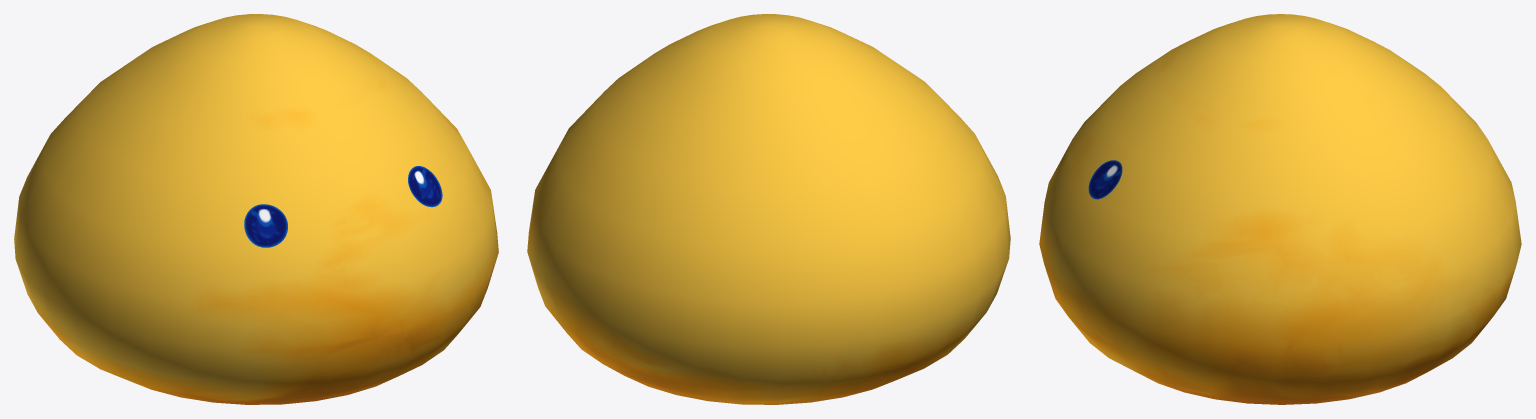
The model's file is slime_yellow.gltf.
The picture shows the model from 3 angles, left to right: view 1: azimuth 30°, elevation 25°; view 2: azimuth 150°, elevation 25°; view 3: azimuth 270°, elevation 25°; orthographic projection.
Visible parts, largest first — view 1: Slime_Slime_0; view 2: Slime_Slime_0; view 3: Slime_Slime_0.
Part boxes in pixels (bbox=[...]): Slime_Slime_0: bbox=[14, 14, 498, 404]; Slime_Slime_0: bbox=[527, 14, 1010, 404]; Slime_Slime_0: bbox=[1039, 14, 1521, 404].
Size of the model in its own units: 1.03 by 0.7421 by 1.03.
1 material, 1 textured.
